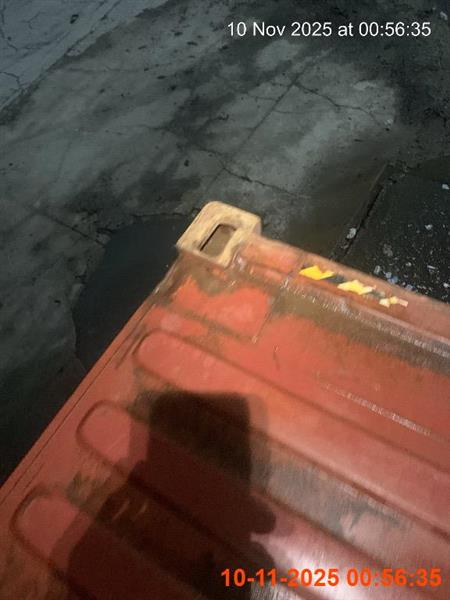broken: (0, 198, 449, 599)
